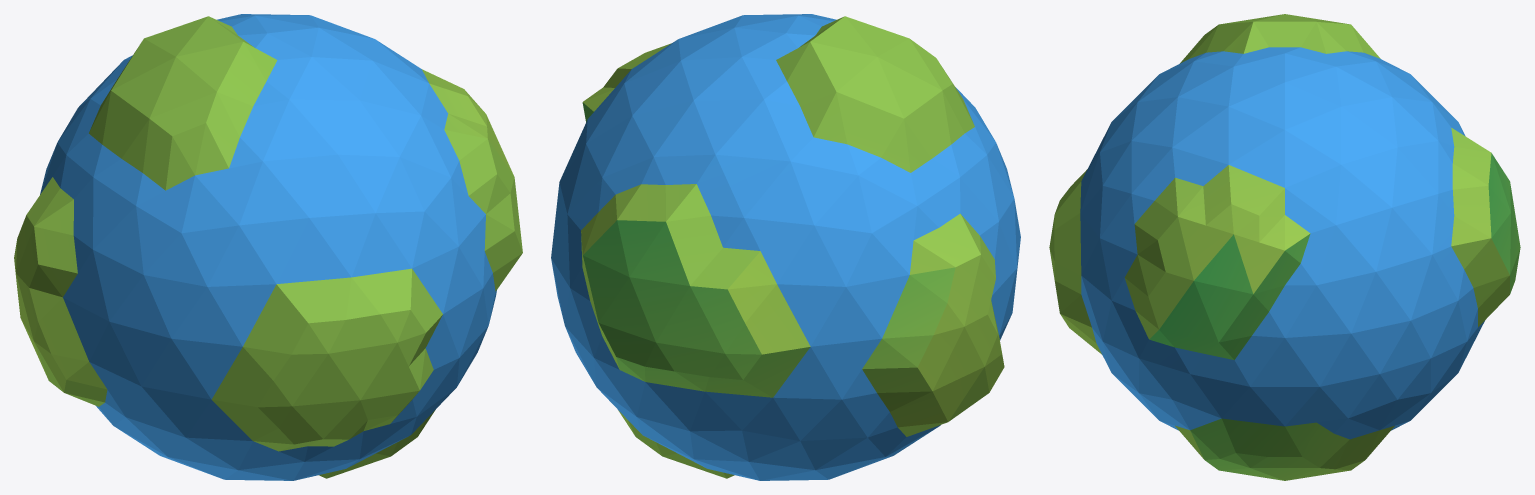
Rendered from earth.fbx.
The picture shows the model from 3 angles, left to right: view 1: azimuth 30°, elevation 25°; view 2: azimuth 150°, elevation 25°; view 3: azimuth 270°, elevation 25°; orthographic projection. The views are drawn at different scales.
Parts seen in each view (by area): view 1: Icosphere; view 2: Icosphere; view 3: Icosphere.
Part boxes in pixels (box(x1,y1,x2,y2)): Icosphere: box(14, 14, 522, 480); Icosphere: box(551, 14, 1020, 480); Icosphere: box(1049, 14, 1520, 480).
Size of the model in its own units: 213 by 214 by 220.
